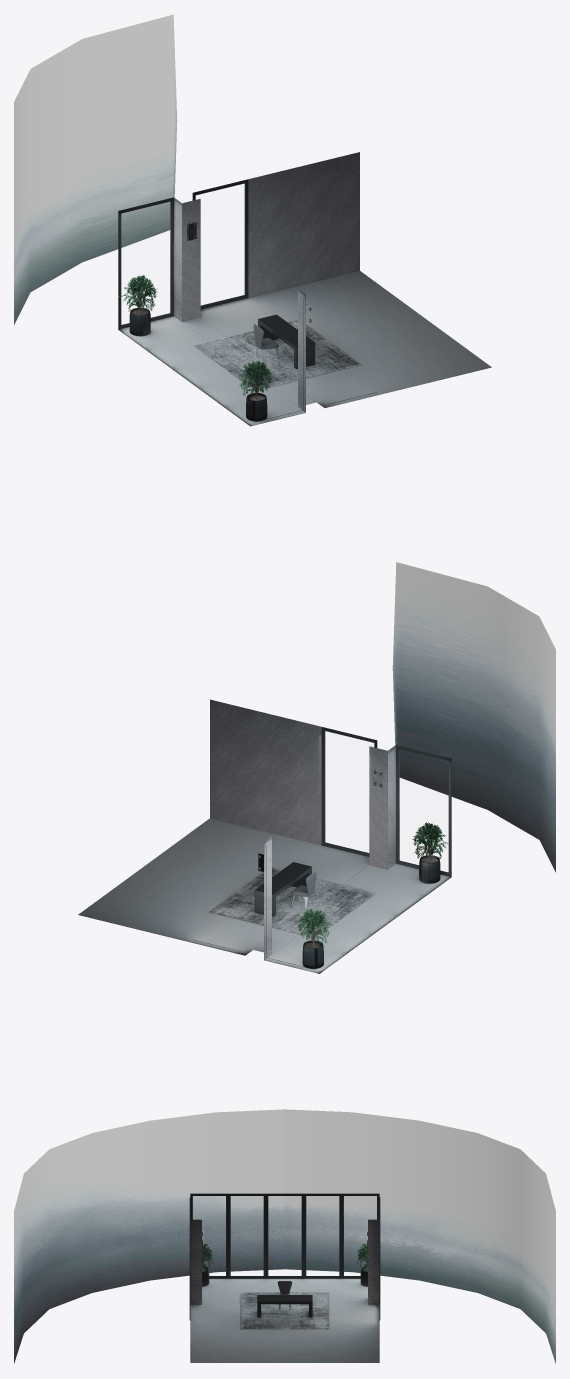
File: minimalistic_modern_office.glb
3 renders of one model, top to bottom at view 1: azimuth 30°, elevation 25°; view 2: azimuth 150°, elevation 25°; view 3: azimuth 270°, elevation 25°, orthographic. The views are drawn at different scales.
Parts seen in each view (by area): view 1: Minimalistic Modern Office, Carpet; view 2: Minimalistic Modern Office, Carpet; view 3: Minimalistic Modern Office, Carpet.
Part boxes in pixels (<box>): Minimalistic Modern Office: <box>14,14,491,426</box>; Carpet: <box>194,320,360,389</box>; Minimalistic Modern Office: <box>78,562,555,973</box>; Carpet: <box>209,868,376,936</box>; Minimalistic Modern Office: <box>14,1109,555,1363</box>; Carpet: <box>241,1292,328,1329</box>.
Bounding box in the file's own units: 13.11 × 8.11 × 24.91.
9 materials, 7 textured.
